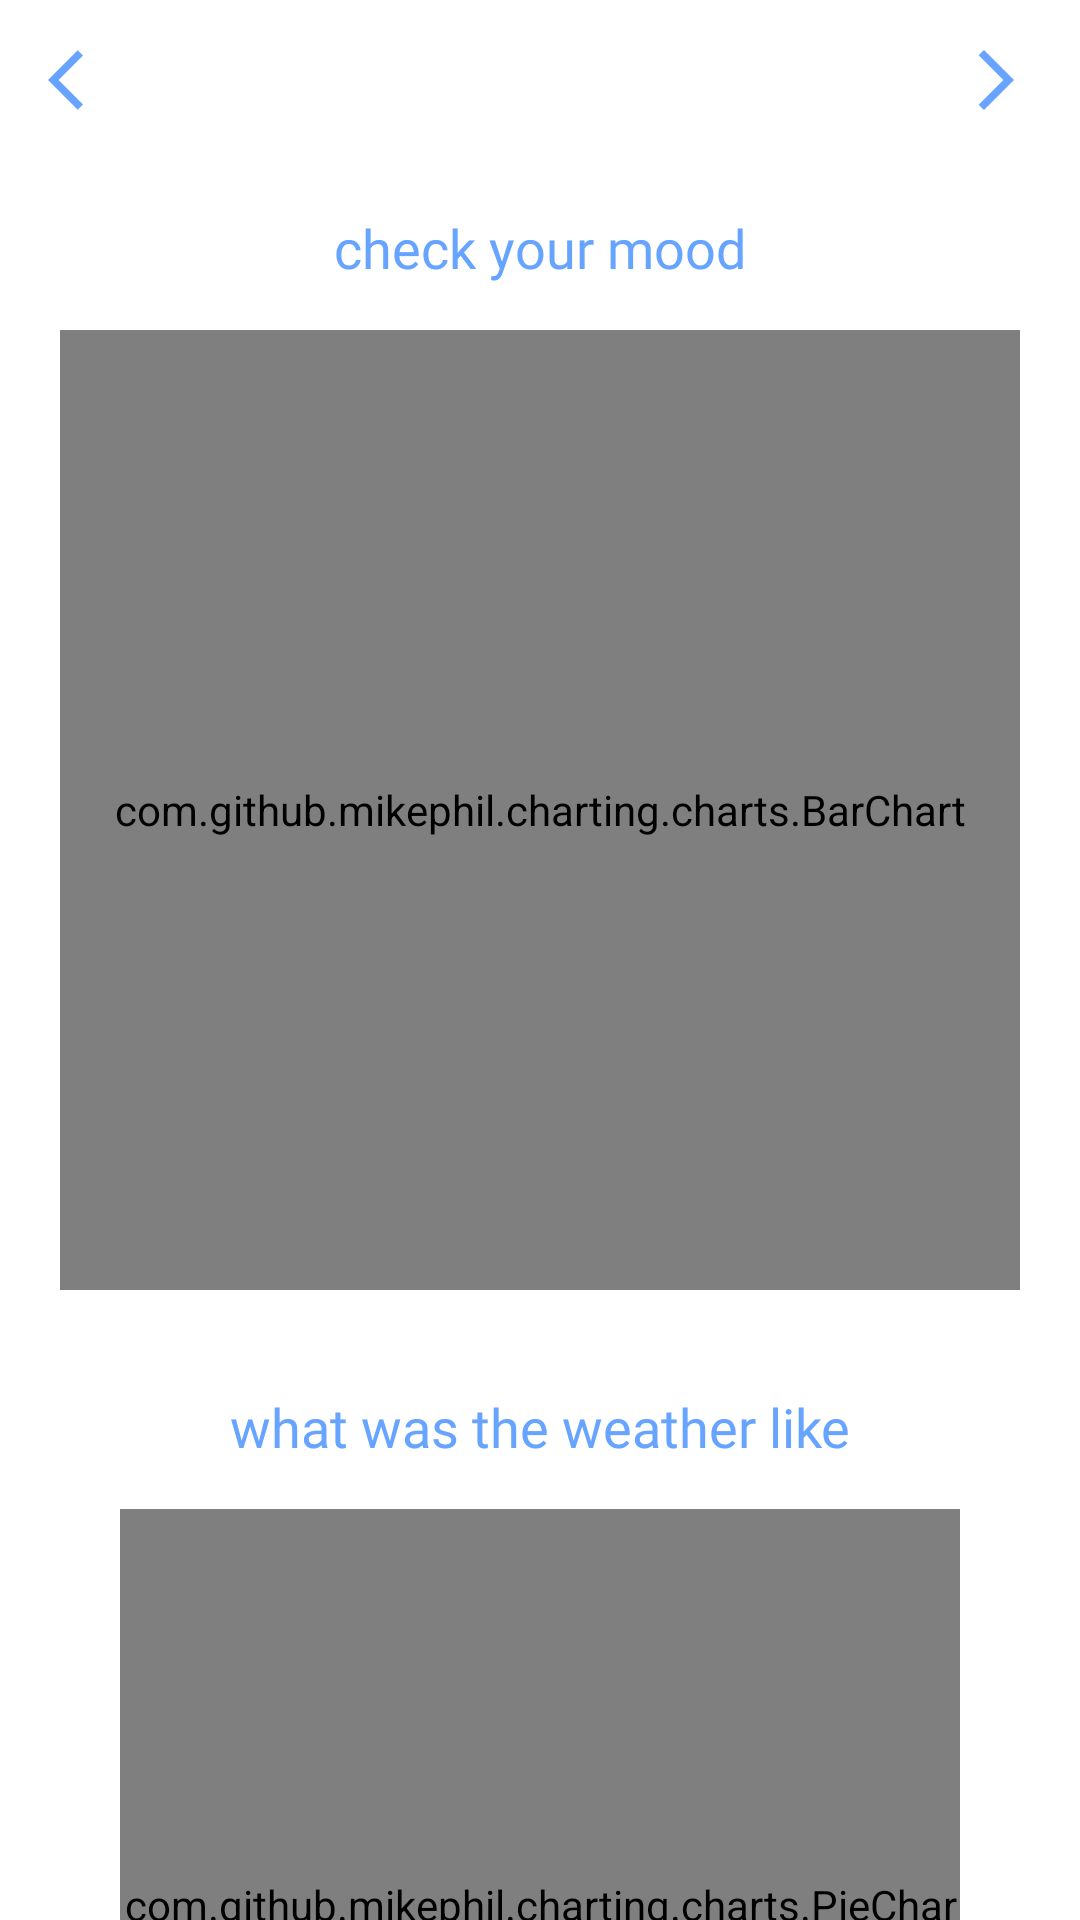

Where icons sit on this 1080x1920 app screen, as (x1, y1, x2, y2):
arrow back: (48, 50, 83, 110)
arrow forward: (979, 50, 1014, 110)
